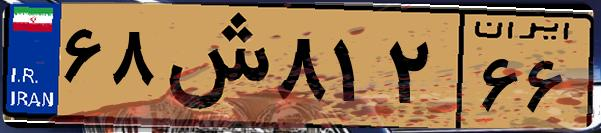1: (330, 28, 385, 110)
2: (385, 28, 445, 110)
6: (57, 26, 110, 100), (475, 38, 525, 113), (525, 38, 570, 115)
8: (270, 28, 330, 110), (110, 28, 158, 98)
ش: (158, 12, 270, 120)
